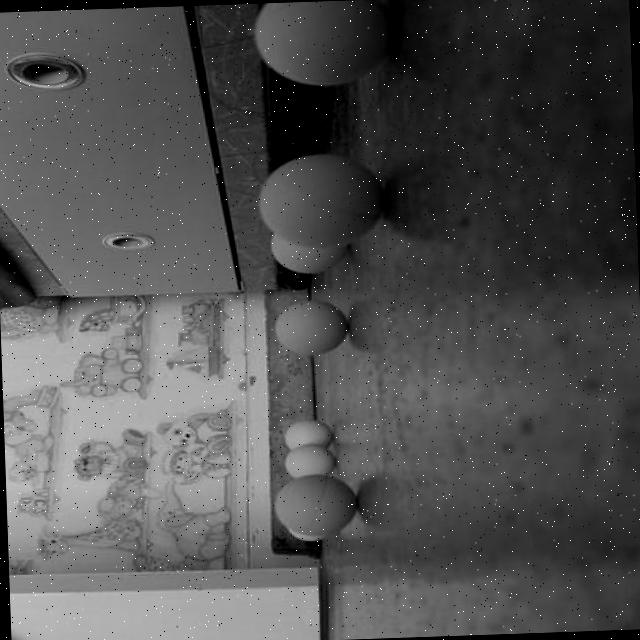ping-pong-ball: (252, 145, 396, 251), (253, 0, 400, 88), (272, 471, 366, 539), (267, 211, 357, 274), (272, 296, 354, 357), (283, 416, 336, 452), (284, 442, 334, 480)
